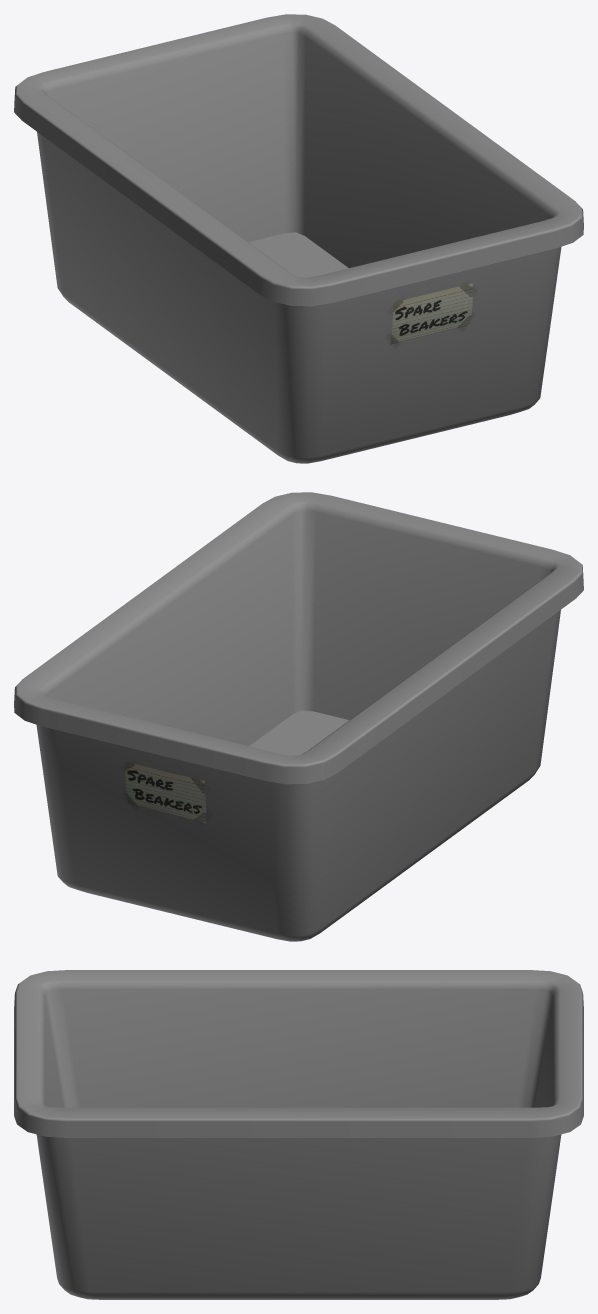
The model's file is SM_Plastic_Container_01c.fbx.
3 renders of one model, top to bottom at view 1: azimuth 30°, elevation 25°; view 2: azimuth 150°, elevation 25°; view 3: azimuth 270°, elevation 25°, orthographic. The views are drawn at different scales.
Visible parts, largest first — view 1: SM_Plastic_Container_01c_LOD0; view 2: SM_Plastic_Container_01c_LOD0; view 3: SM_Plastic_Container_01c_LOD0.
Part boxes in pixels (x1,y1,x2,y2): SM_Plastic_Container_01c_LOD0: (14, 14, 583, 463); SM_Plastic_Container_01c_LOD0: (14, 492, 583, 941); SM_Plastic_Container_01c_LOD0: (14, 970, 583, 1299).
Size of the model in its own units: 38.57 by 61.51 by 23.8.
